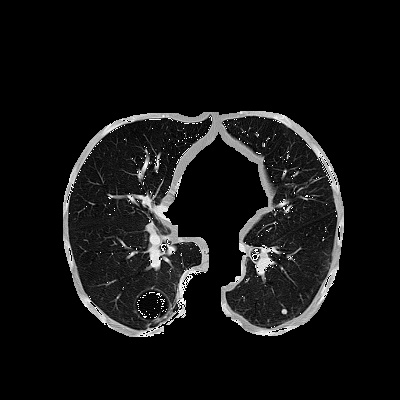PN: (281, 308, 287, 314)
